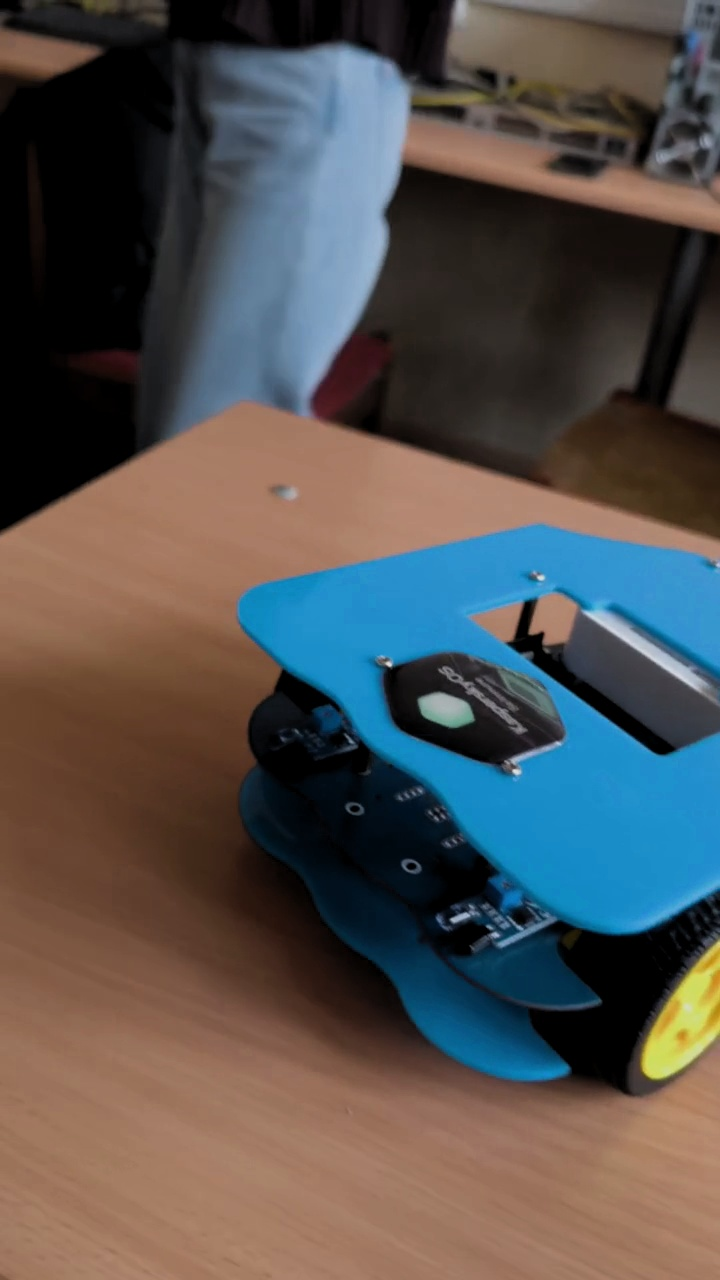robot: (237, 520, 720, 1100)
